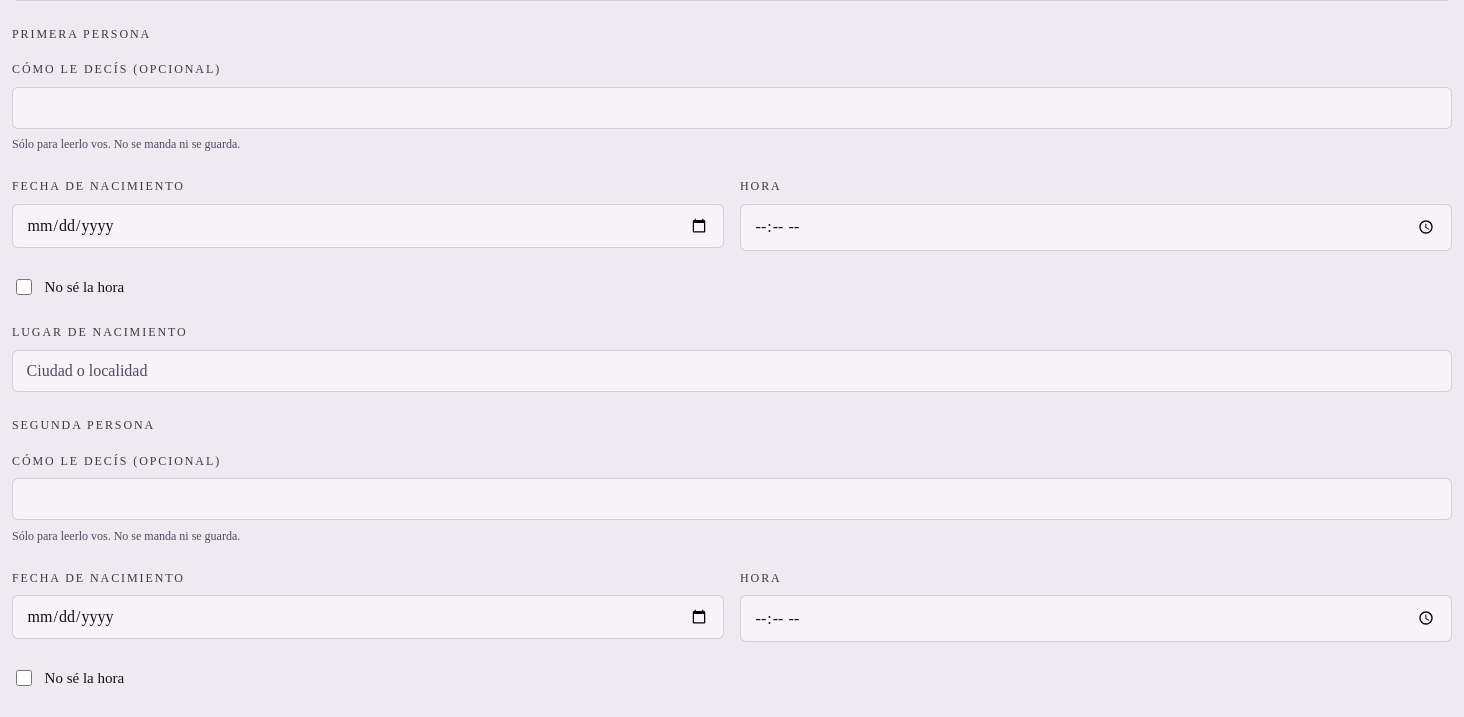
Test: VinculoForm › no deja calcular sin las dos personas completas
Type "1976-05-31" into the date field labelled "Fecha de nacimiento" below "Primera persona" at (368, 226), box [12, 204, 724, 248]
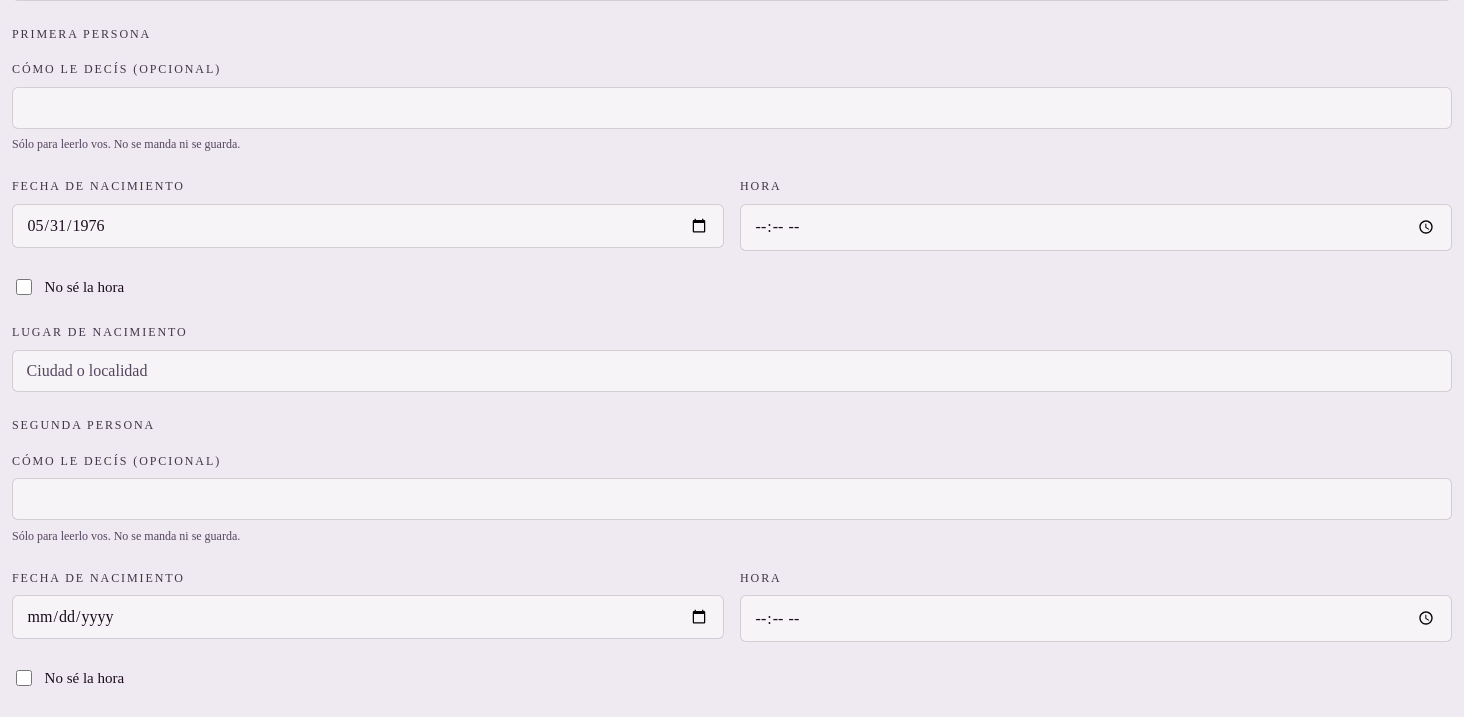
Type "rosario" into the field labelled "Lugar de nacimiento" at (732, 371), box [12, 350, 1452, 392]
Wait 400 ms
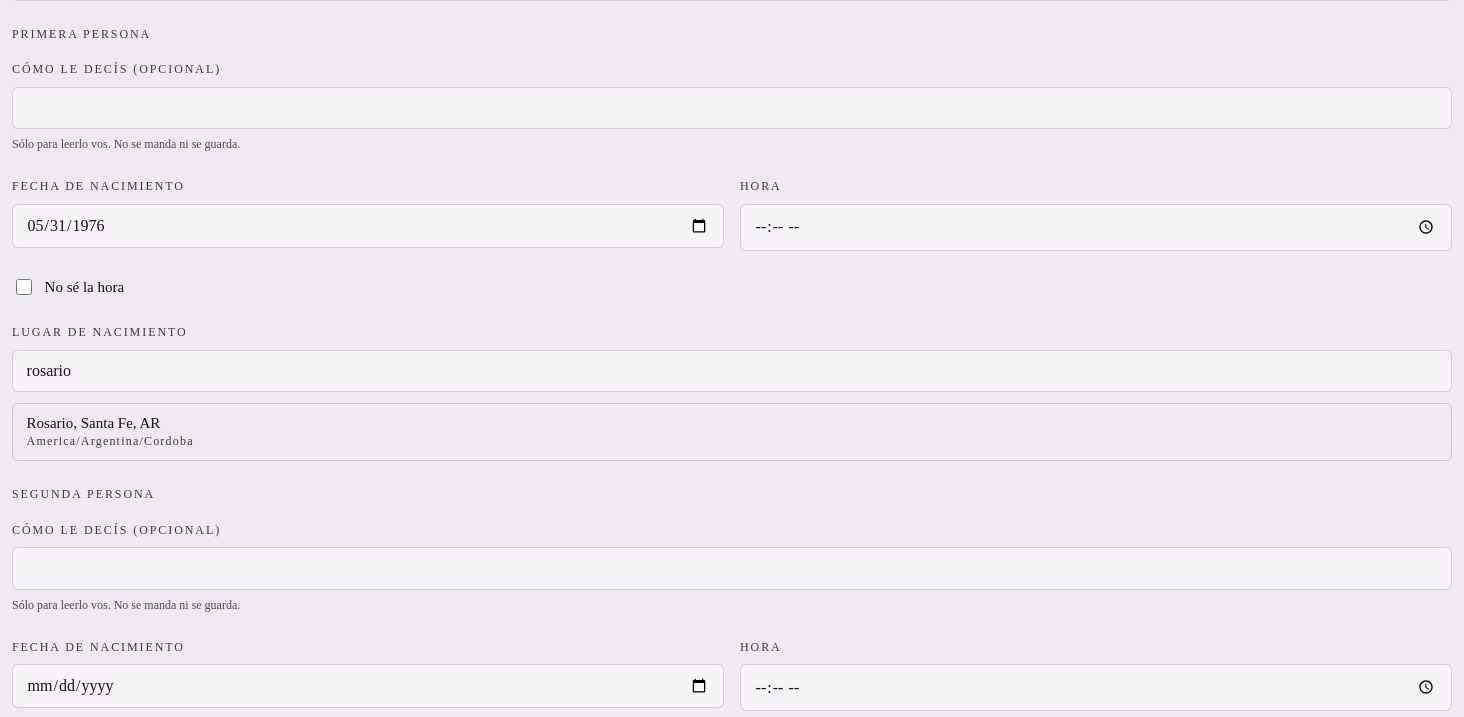
Click the button "Rosario, Santa Fe, AR America/Argentina/Cordoba" at (93, 423), box [13, 404, 1451, 460]
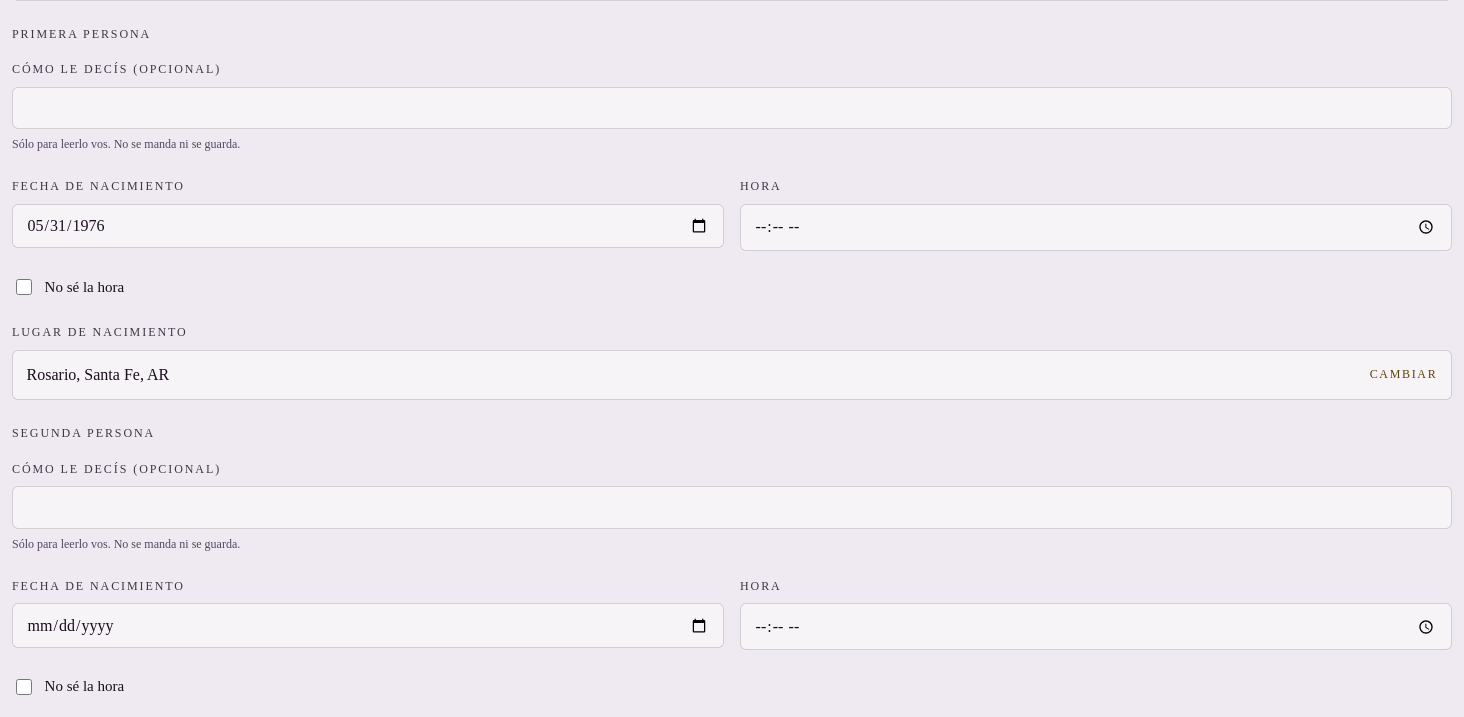
Type "1980-11-02" into the date field labelled "Fecha de nacimiento" below "Segunda persona" at (368, 626), box [12, 603, 724, 648]
(page scrolled)
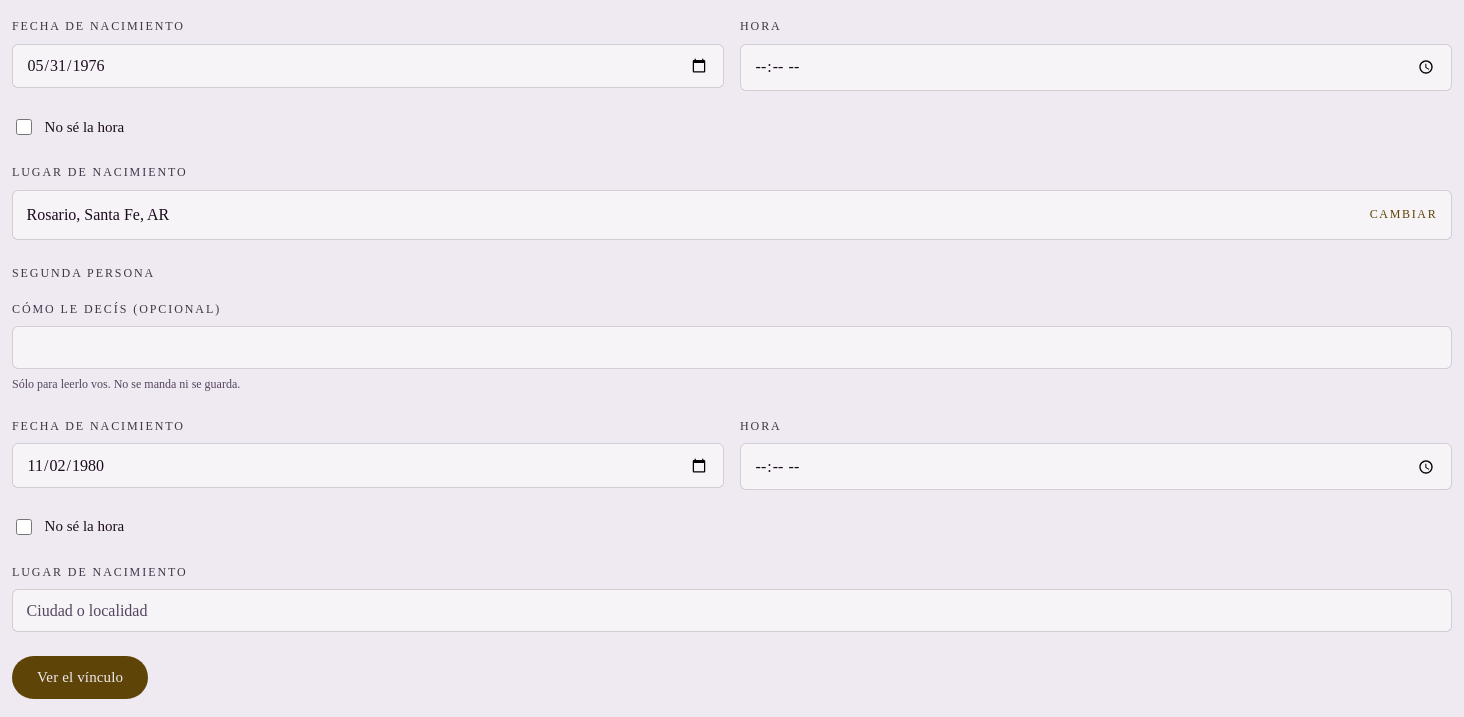
Type "rosario" into the field labelled "Lugar de nacimiento" at (732, 611), box [12, 589, 1452, 632]
Wait 400 ms
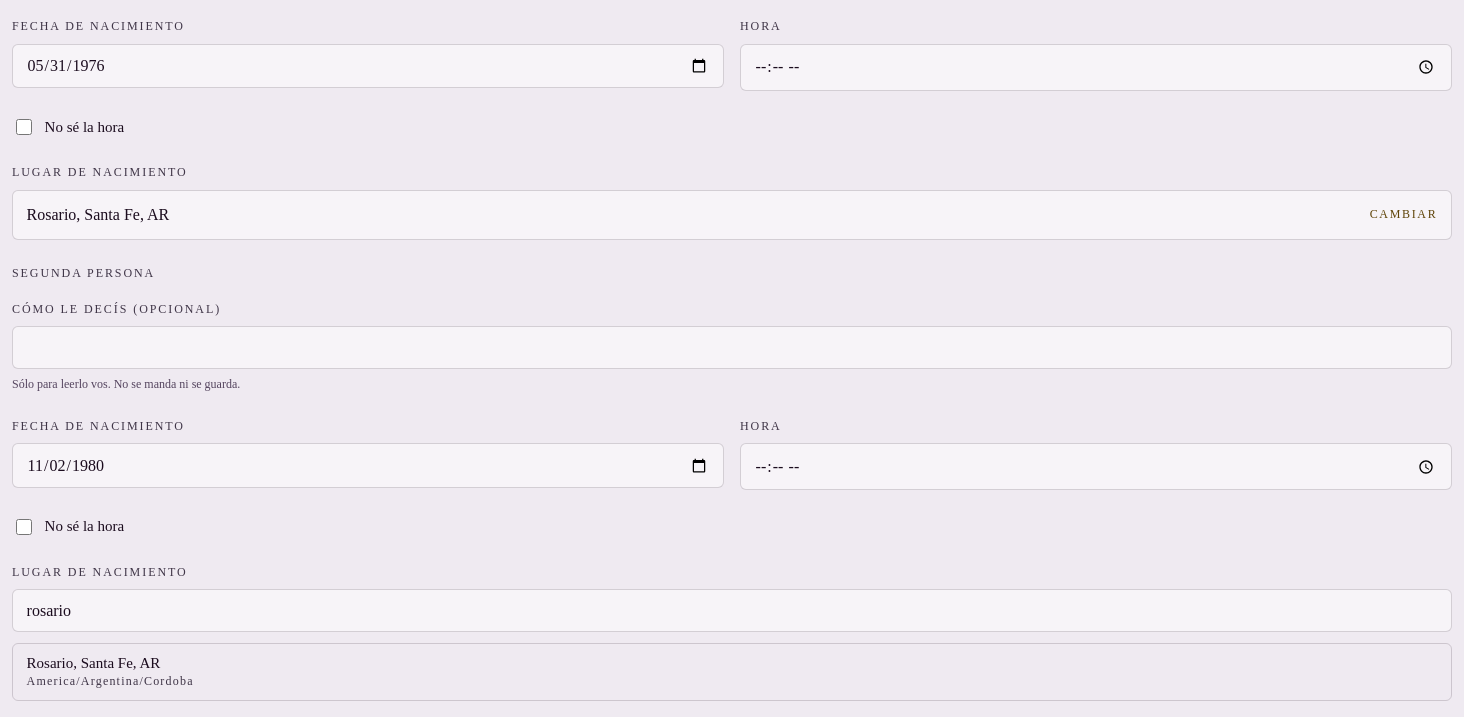
Click the button "Rosario, Santa Fe, AR America/Argentina/Cordoba" at (93, 663), box [13, 644, 1451, 700]
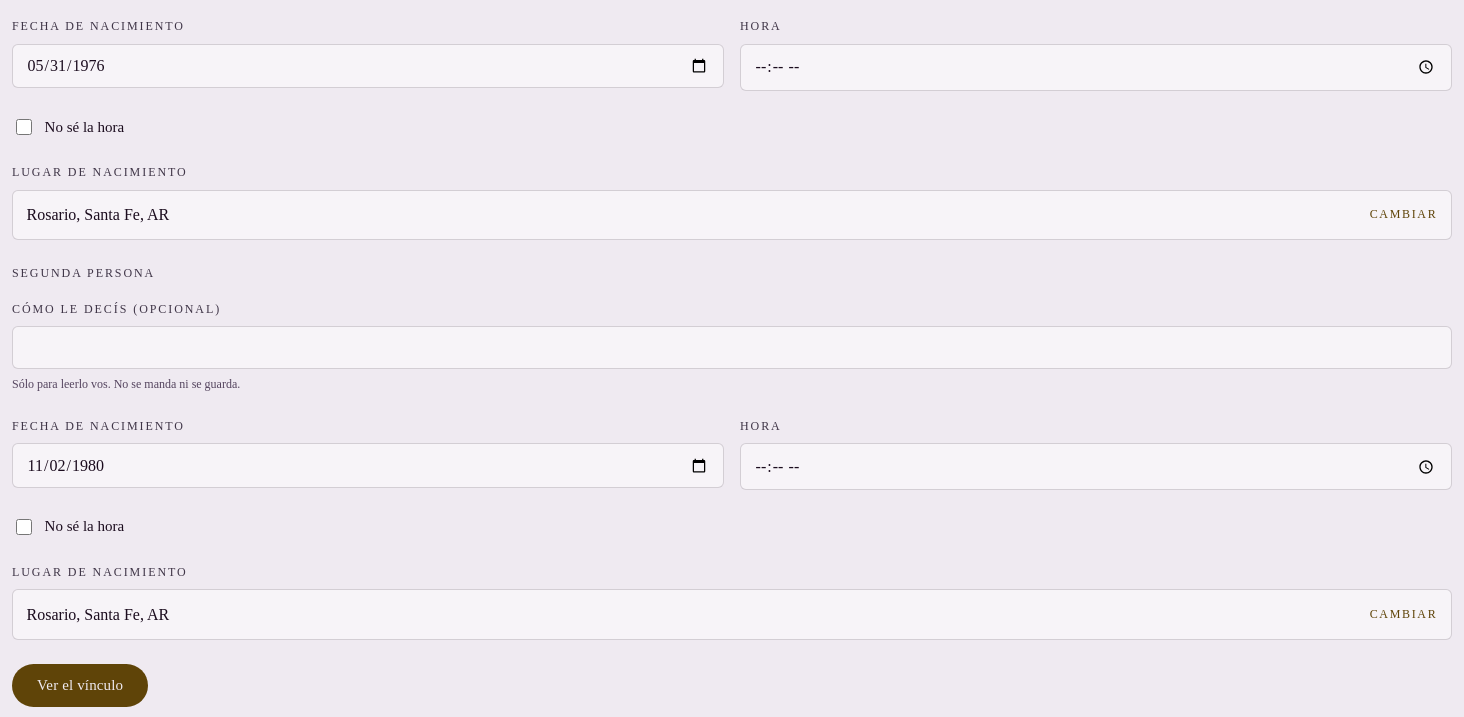
expect the button "Ver el vínculo" is enabled: met, box [12, 664, 148, 707]
